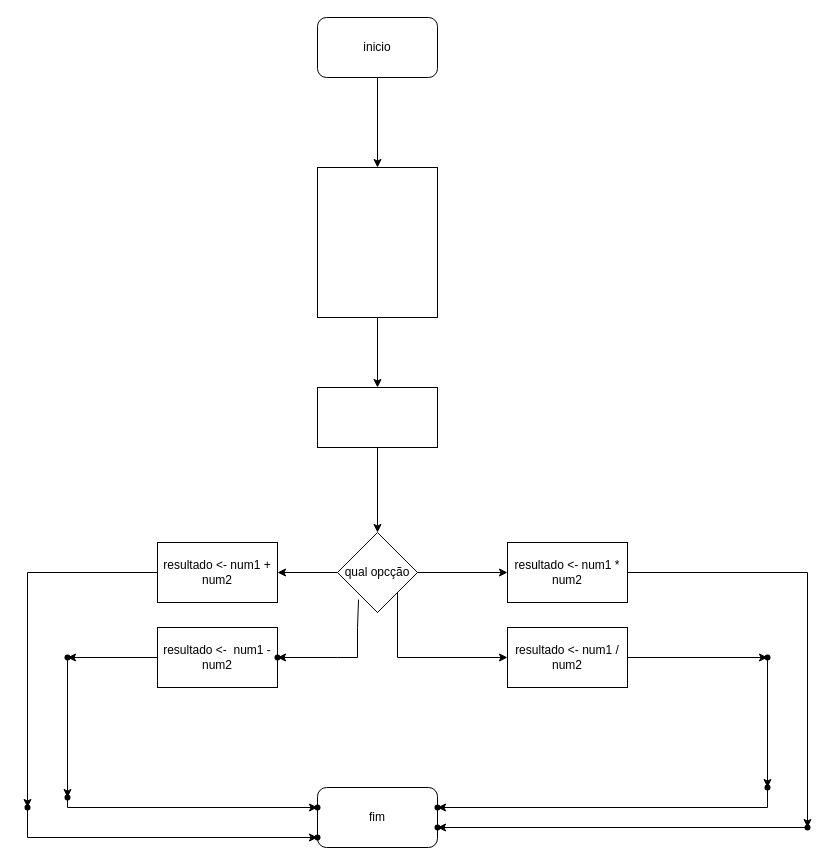
Some shapes in this 835 by 865 pixel diagram are drawn without their labels. Here are the shapes that lost their labels. From the top down, the centre of each, then its label:
pixel 377 242: menu 1 - Soma 2- Subtracção 3- MUltiplicação 4- Divisão ler opcao
pixel 377 417: ler num1 ler num2
